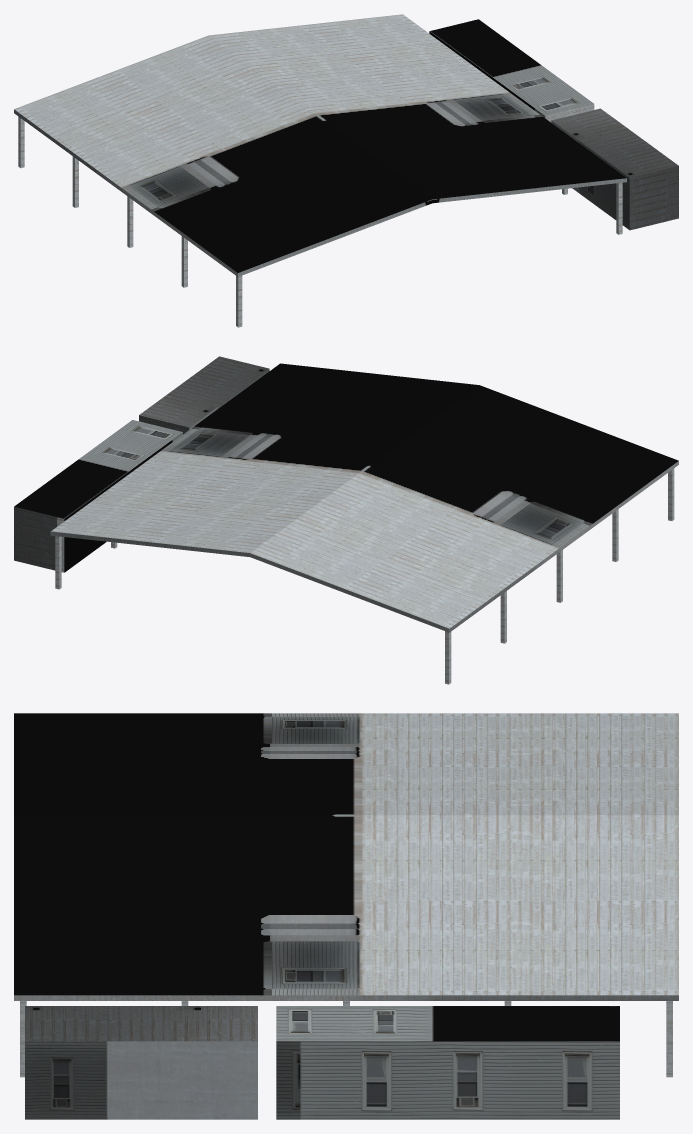
File: BaggageStand.exact.glb
3 views of the same model, one above another, from view 1: azimuth 30°, elevation 25°; view 2: azimuth 150°, elevation 25°; view 3: azimuth 270°, elevation 25° (orthographic). The views are drawn at different scales.
Parts seen in each view (by area): view 1: BaggageStand; view 2: BaggageStand; view 3: BaggageStand.
Boxes of the visible parts, x1,y1,x2,y2 form: BaggageStand: (14,14,678,327); BaggageStand: (14,356,678,684); BaggageStand: (14,713,678,1119).
Bounding box in the file's own units: 35.39 × 6.3 × 30.86.
1 material, 1 textured.
